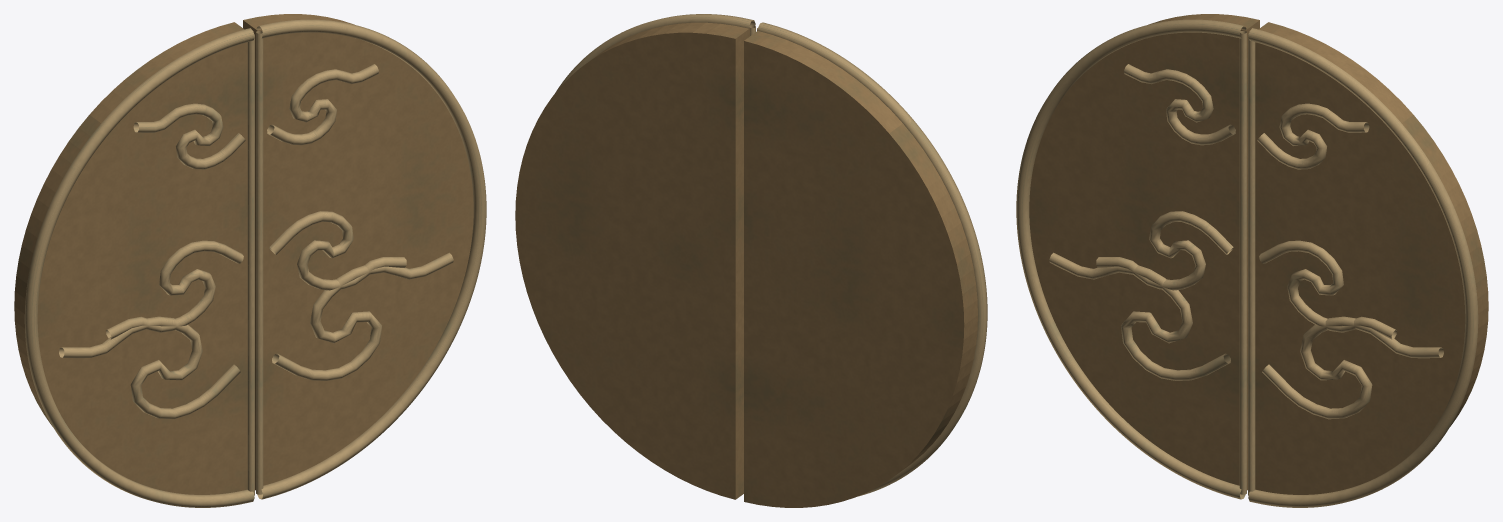
3 renders of one model, left to right at view 1: azimuth 30°, elevation 25°; view 2: azimuth 150°, elevation 25°; view 3: azimuth 330°, elevation 25°, orthographic.
Parts seen in each view (by area): view 1: LeftCasting_bronze, RightCasting_bronze, RightCasting_gold, LeftCasting_gold; view 2: LeftCasting_bronze, RightCasting_bronze, LeftCasting_gold, RightCasting_gold; view 3: RightCasting_bronze, LeftCasting_bronze, LeftCasting_gold, RightCasting_gold.
Part boxes in pixels (x1,y1,x2,y2): LeftCasting_bronze: (14,22,247,494); RightCasting_bronze: (243,14,473,490); RightCasting_gold: (256,19,486,499); LeftCasting_gold: (24,28,254,507); LeftCasting_bronze: (744,31,977,507); RightCasting_bronze: (515,22,749,499); LeftCasting_gold: (757,22,987,496); RightCasting_gold: (555,14,755,92); RightCasting_bronze: (1255,22,1488,494); LeftCasting_bronze: (1029,14,1259,490); LeftCasting_gold: (1016,19,1246,499); RightCasting_gold: (1248,28,1478,507).
Size of the model in its own units: 1.43 by 1.41 by 0.1095.
Materials: 2 (2 with a texture image).
